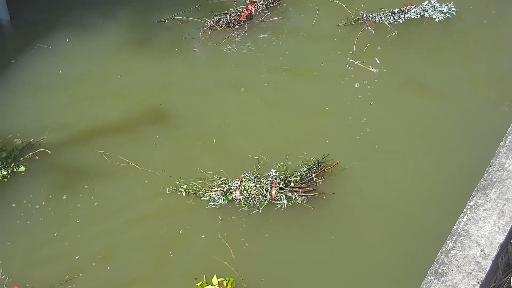twig: (179, 133, 354, 213), (319, 0, 463, 33), (198, 0, 288, 47), (0, 133, 81, 184), (184, 270, 275, 288)
